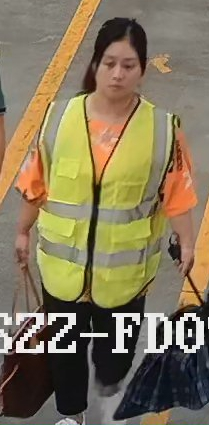hand: (175, 238, 200, 277), (8, 227, 30, 268)
